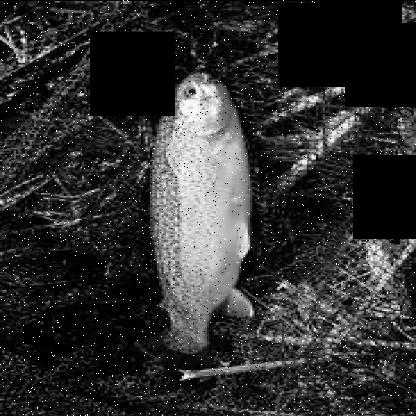fish: (145, 74, 254, 366)
